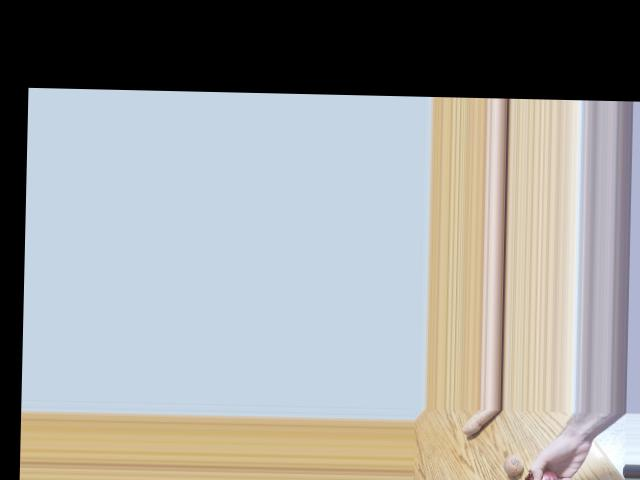onion: (528, 472, 560, 480)
